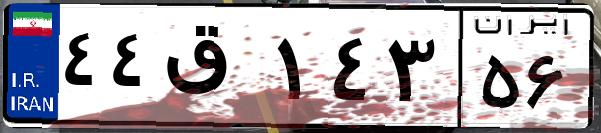1: (270, 28, 330, 110)
3: (385, 28, 445, 110)
4: (330, 28, 385, 110), (57, 26, 110, 100), (110, 28, 158, 98)
5: (475, 38, 525, 113)
6: (525, 38, 570, 115)
ق: (158, 20, 270, 120)
